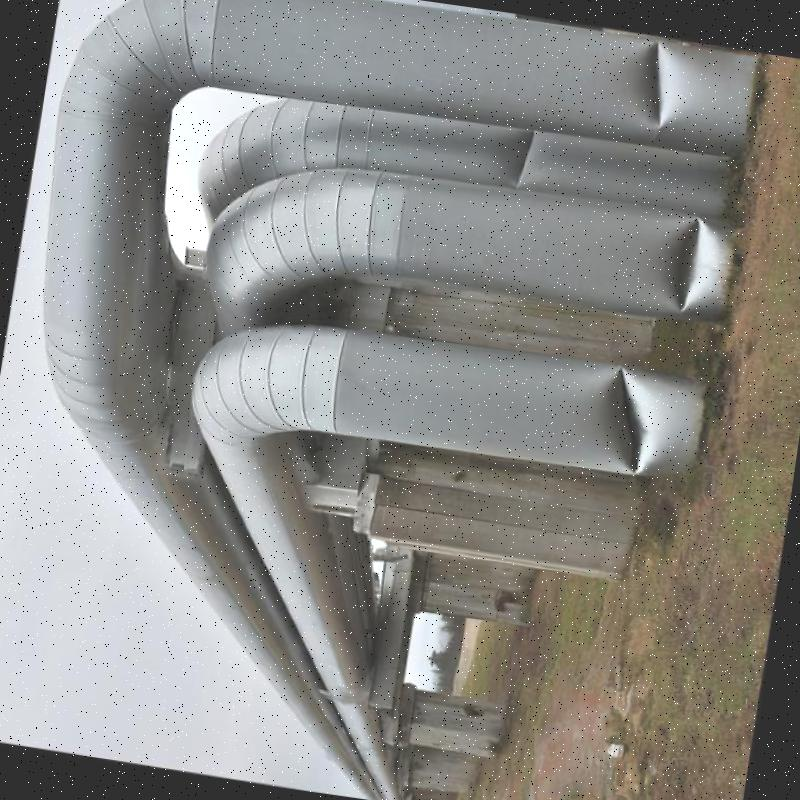Dent: (576, 34, 754, 469)
Healthy: (208, 0, 554, 105), (294, 172, 596, 282), (244, 327, 521, 436), (45, 87, 152, 350)
